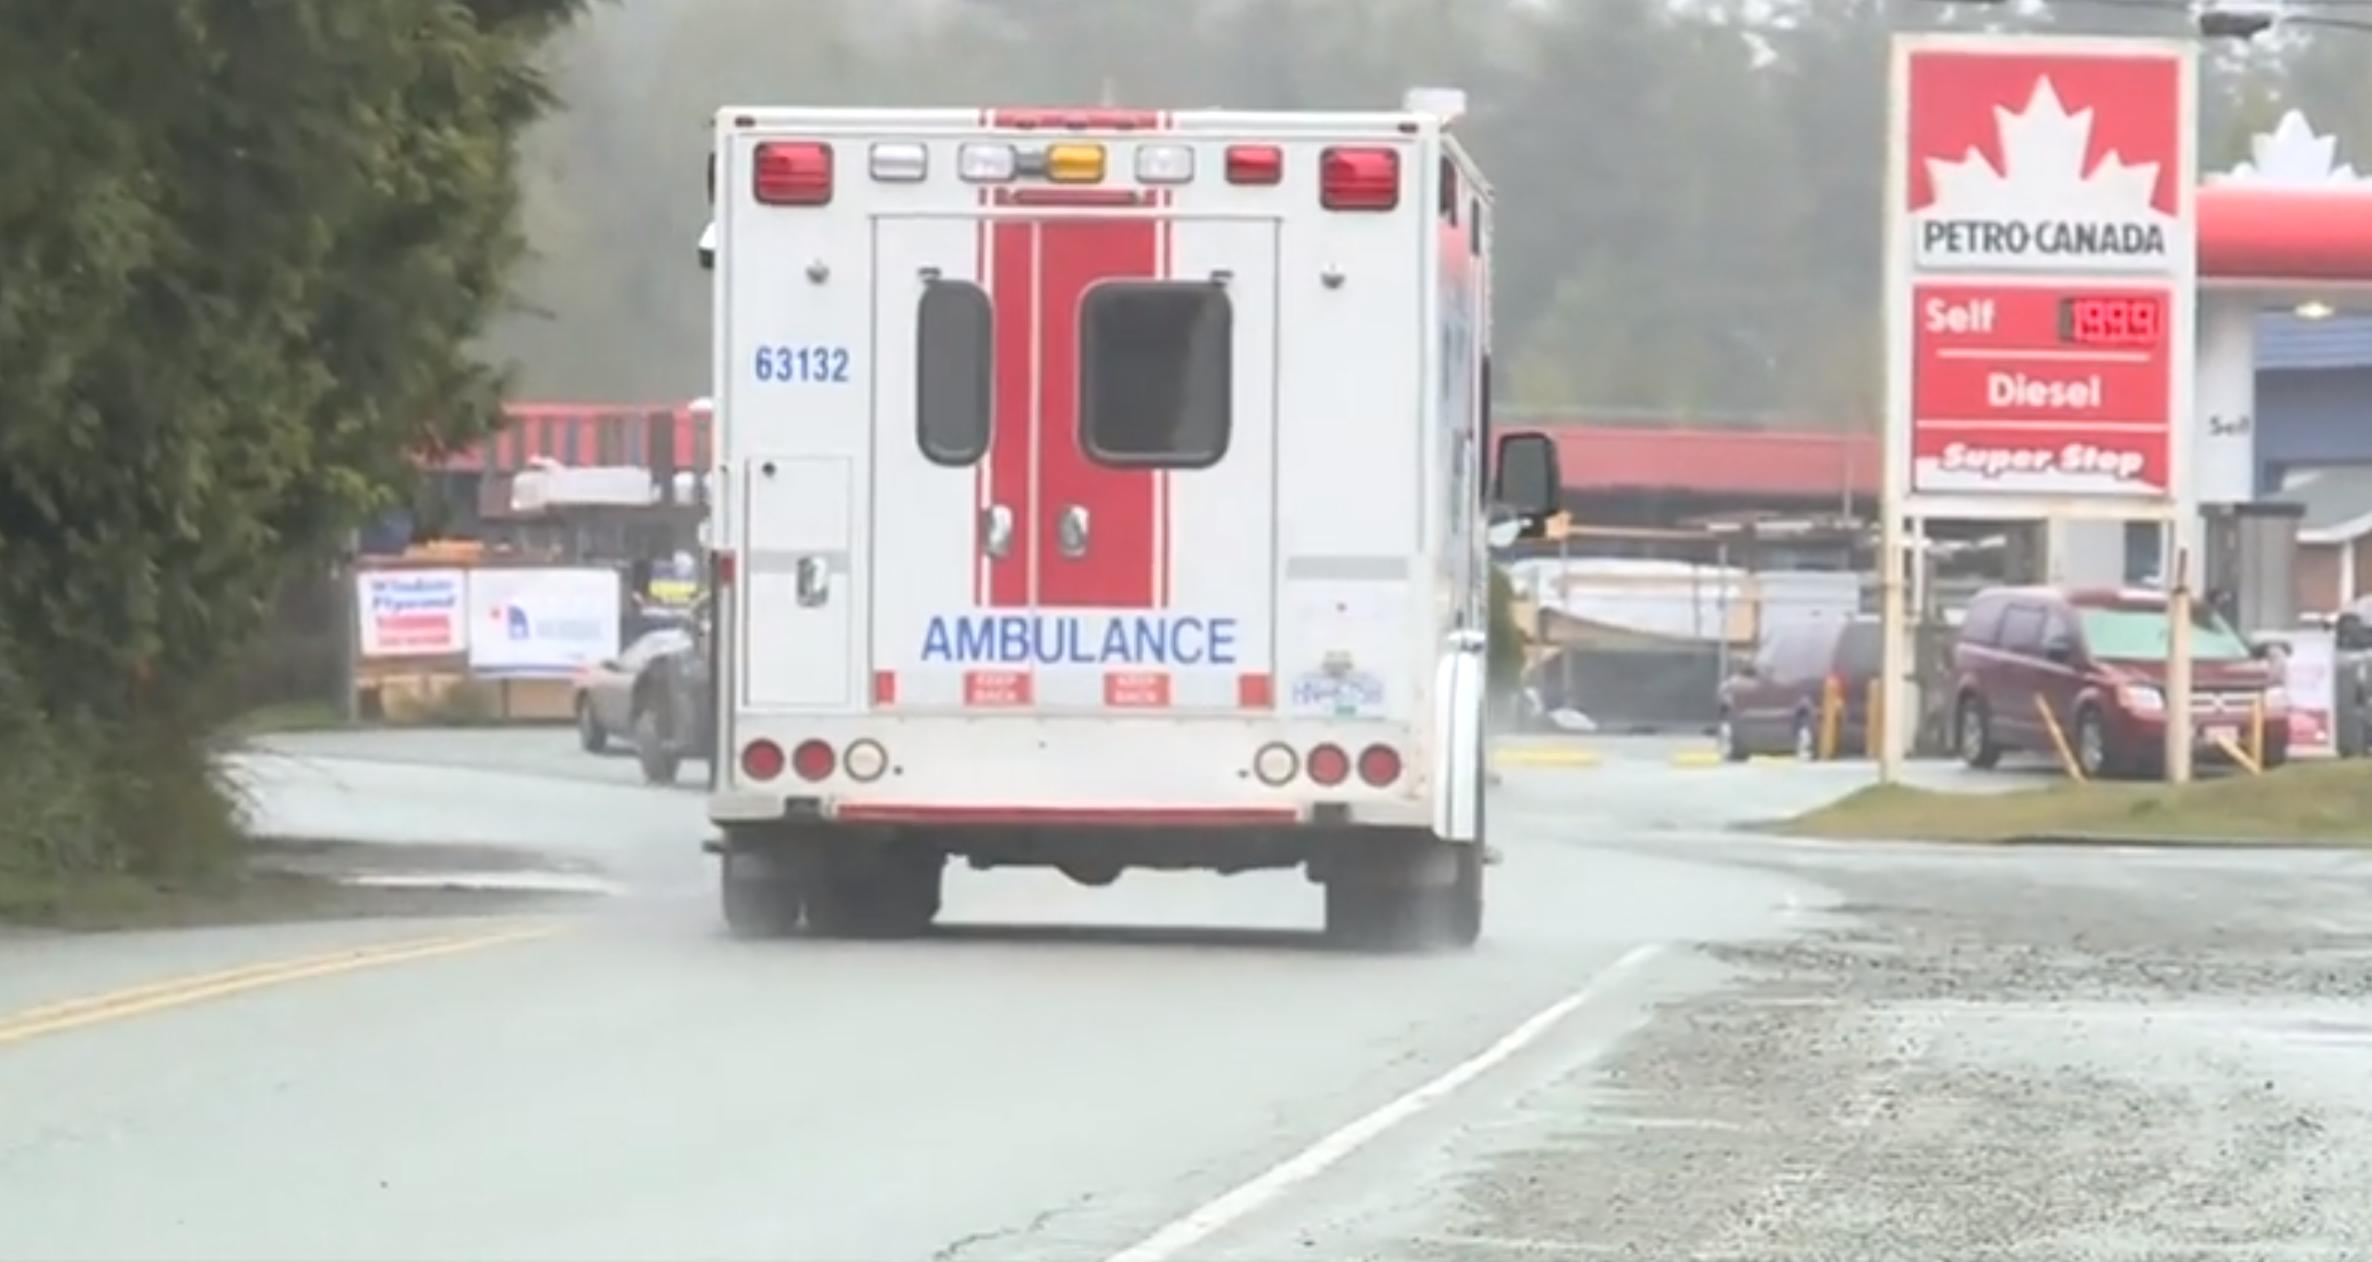ambulance_off: (692, 97, 1571, 951)
